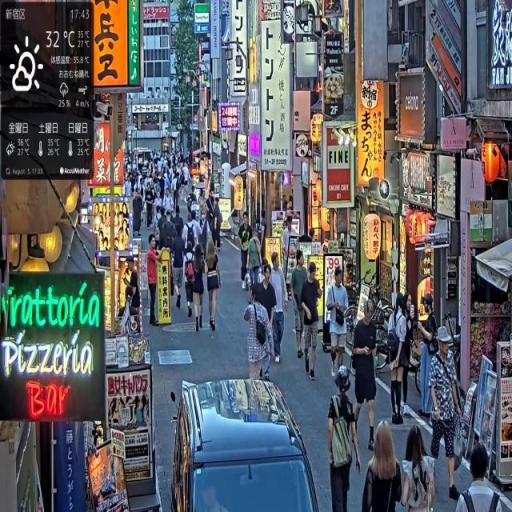person: (428, 328, 467, 503), (326, 367, 363, 512), (351, 299, 381, 455), (361, 421, 407, 512), (454, 442, 510, 512), (388, 291, 413, 429), (400, 425, 439, 511), (417, 294, 440, 421), (300, 261, 323, 382), (327, 266, 350, 377), (246, 290, 273, 382), (269, 253, 288, 368), (291, 248, 310, 362), (205, 240, 224, 337), (171, 218, 189, 311), (190, 240, 207, 335), (145, 235, 161, 328), (248, 227, 265, 295), (239, 212, 253, 292)
